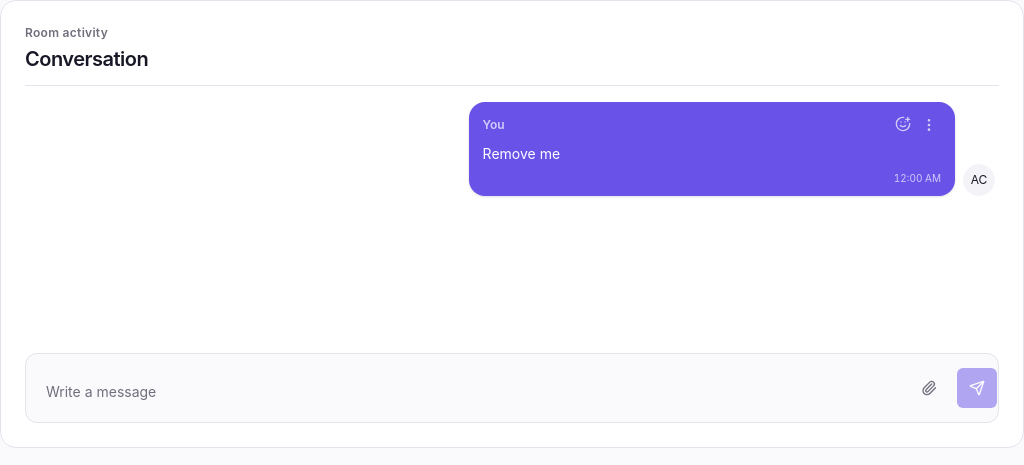
Test: deletes an author's message from the overflow menu
Check: the text "Remove me" is shown, box [483,145,560,162]
Press the mouse on the button named "Message actions" at (929, 125), box [917,113,941,137]
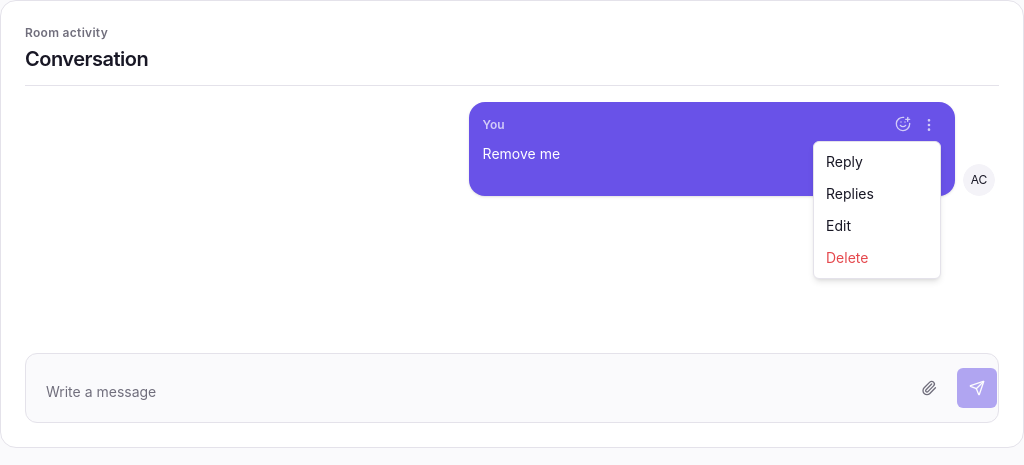
Click the menu item "Delete" at (847, 258), box [826,249,868,266]
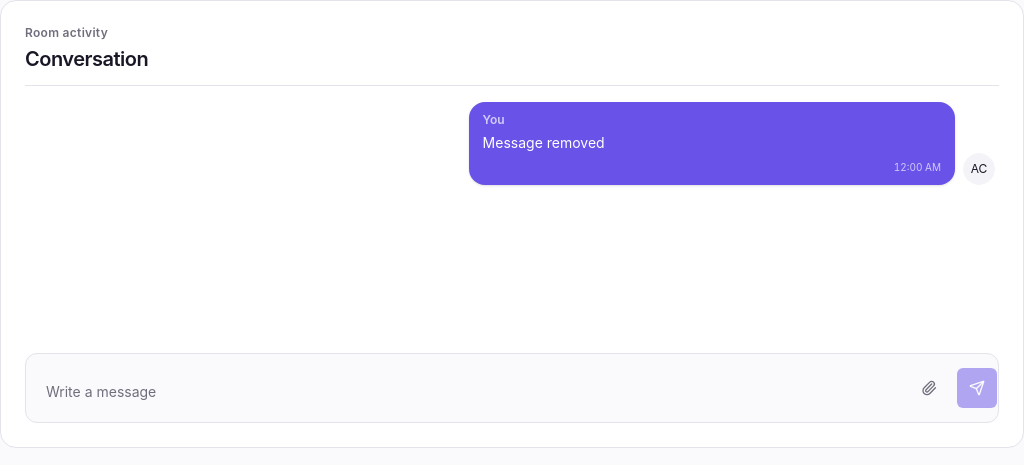
Check: the text "Message removed" is shown, box [483,134,605,151]
